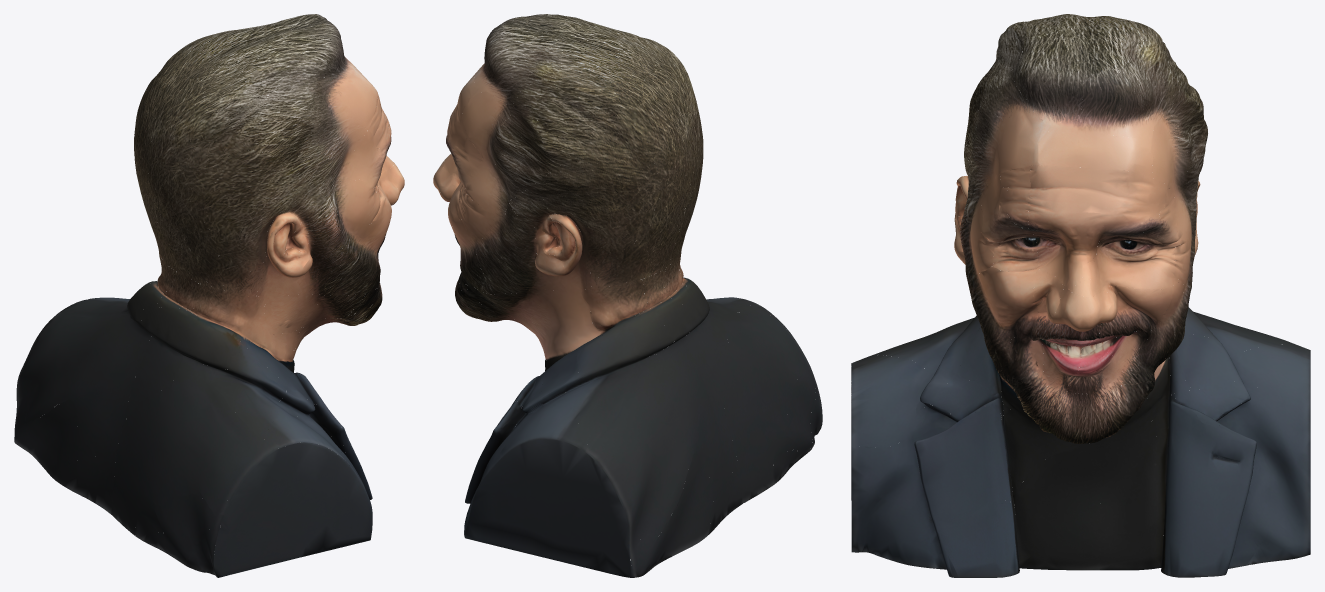
Rendered from bukele_head.glb.
3 renders of one model, left to right at view 1: azimuth 30°, elevation 25°; view 2: azimuth 150°, elevation 25°; view 3: azimuth 270°, elevation 25°, orthographic. The views are drawn at different scales.
Parts seen in each view (by area): view 1: BukeleHeroBust; view 2: BukeleHeroBust; view 3: BukeleHeroBust.
Boxes of the visible parts, x1=… form: BukeleHeroBust: x1=14, y1=14, x2=404, y2=577; BukeleHeroBust: x1=433, y1=14, x2=822, y2=577; BukeleHeroBust: x1=851, y1=14, x2=1310, y2=577.
Bounding box in the file's own units: 1.16 × 1.6 × 1.29.
1 material, 1 textured.
